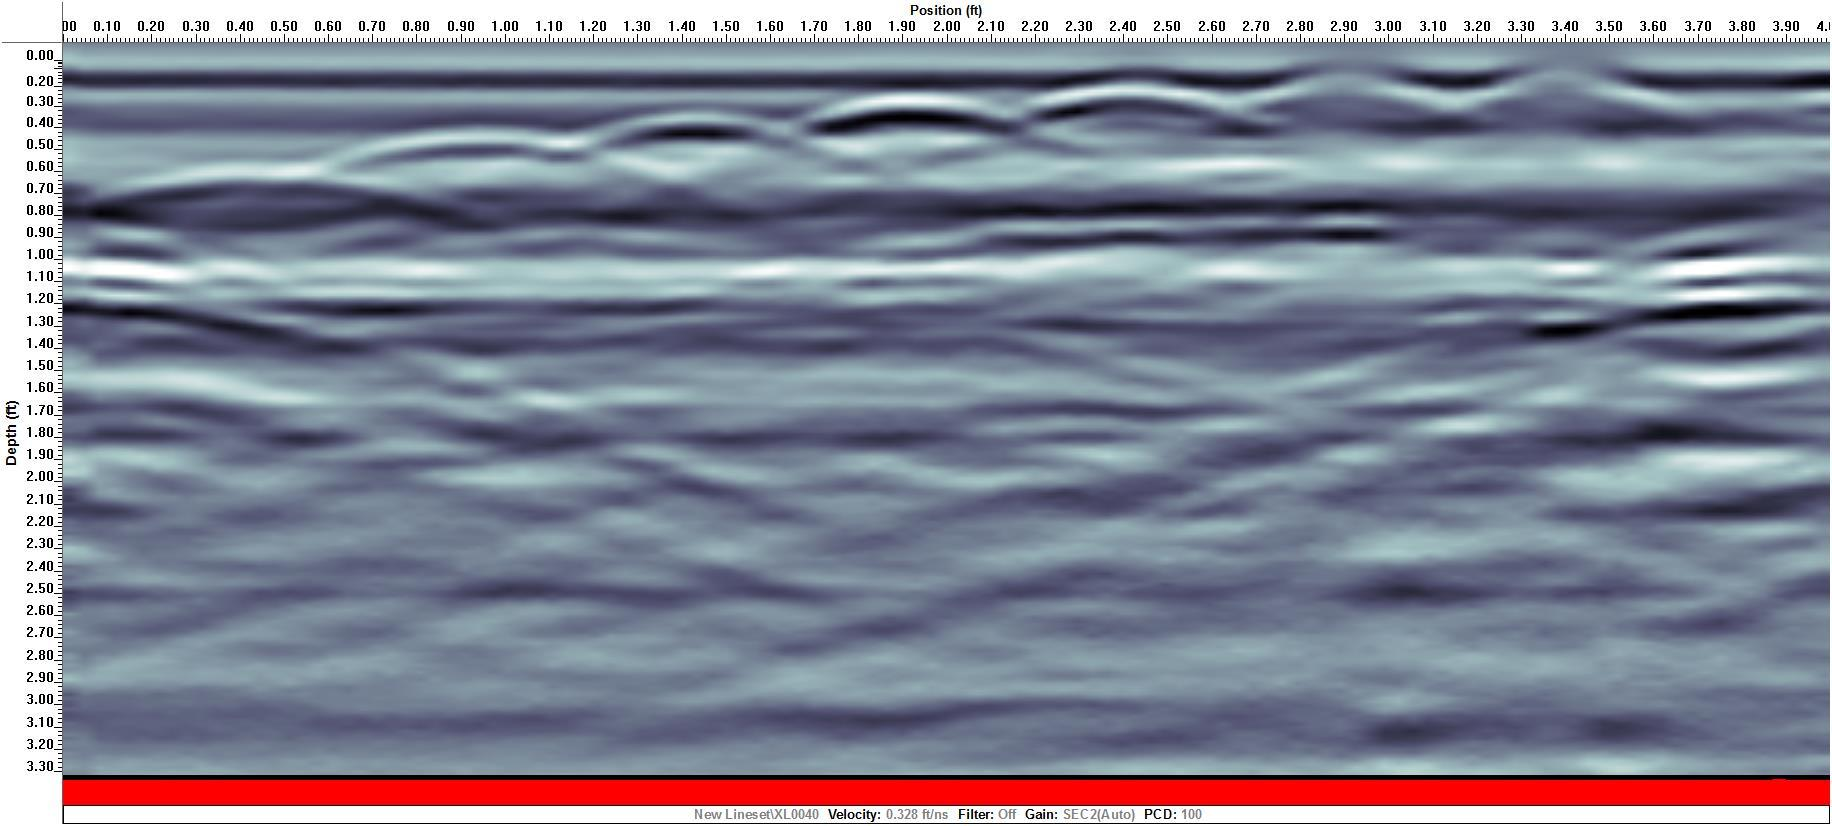hyperbola: (86, 147, 457, 249), (324, 106, 624, 195), (570, 88, 837, 180), (777, 78, 1048, 160), (1002, 71, 1259, 150)
